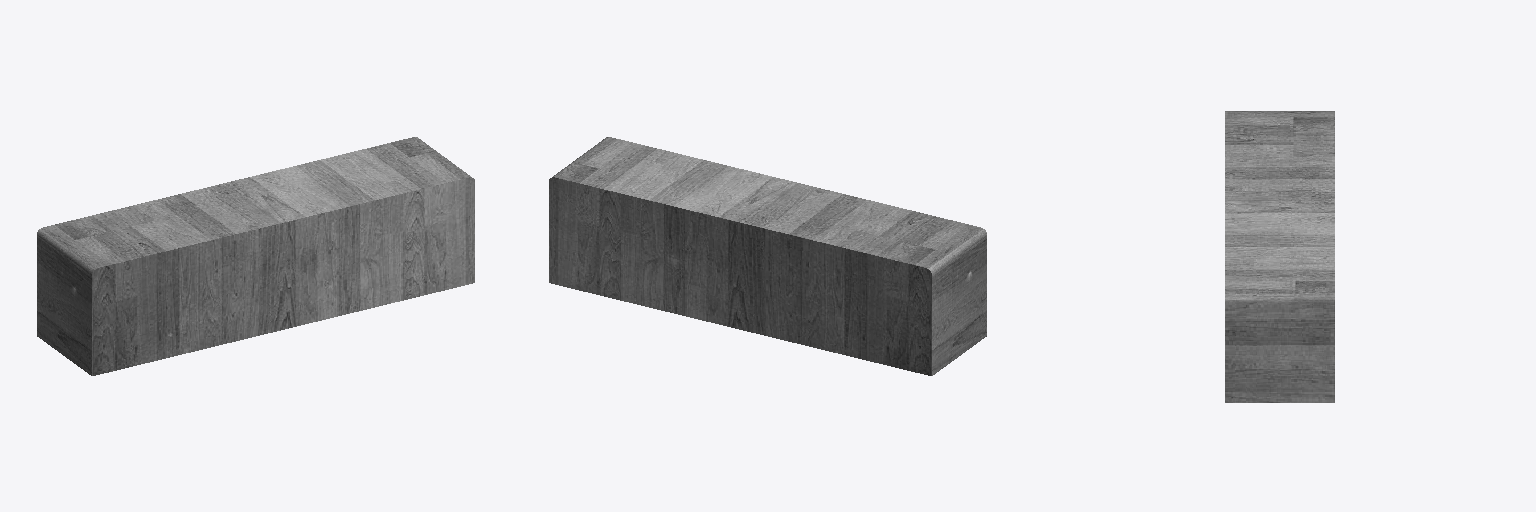
3 renders of one model, left to right at view 1: azimuth 30°, elevation 25°; view 2: azimuth 150°, elevation 25°; view 3: azimuth 270°, elevation 25°, orthographic.
Visible parts, largest first — view 1: MarbleCountertopBottom; view 2: MarbleCountertopBottom; view 3: MarbleCountertopBottom.
Part boxes in pixels (bbox=[...]): MarbleCountertopBottom: bbox=[37, 137, 474, 375]; MarbleCountertopBottom: bbox=[549, 137, 986, 375]; MarbleCountertopBottom: bbox=[1225, 111, 1334, 402].
Size of the model in its own units: 1.63 by 0.4342 by 0.4064.
Materials: 1 (1 with a texture image).